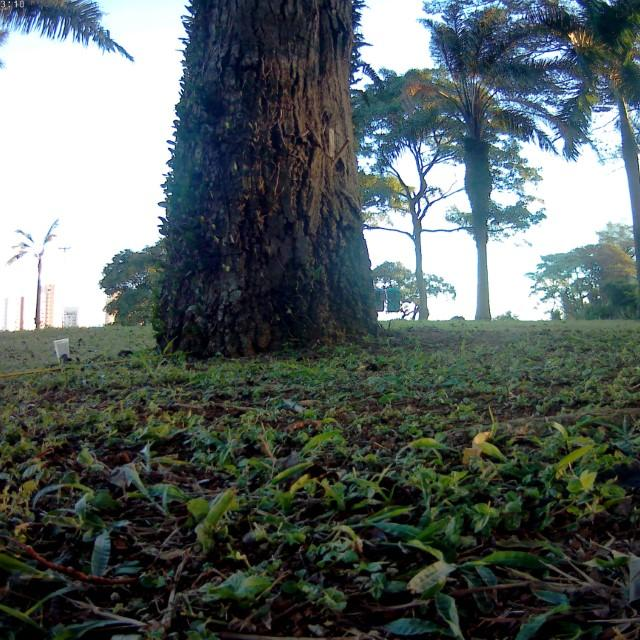arvore: (151, 0, 395, 361)
